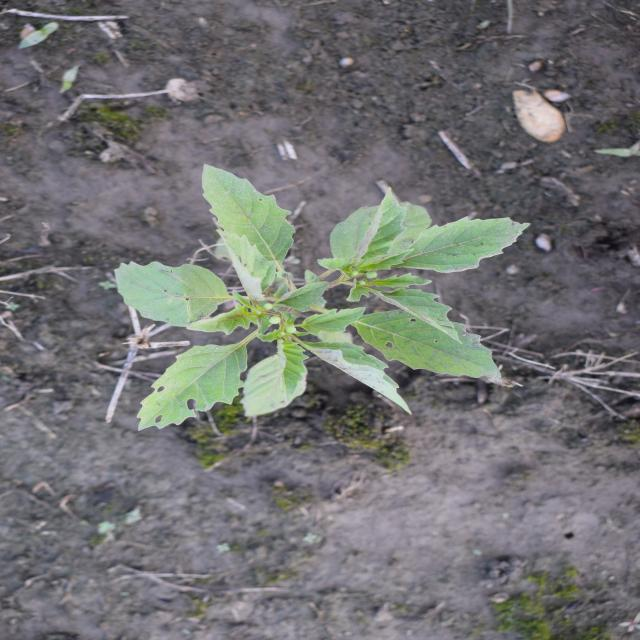CutleafGroundcherry: (110, 162, 535, 432)
